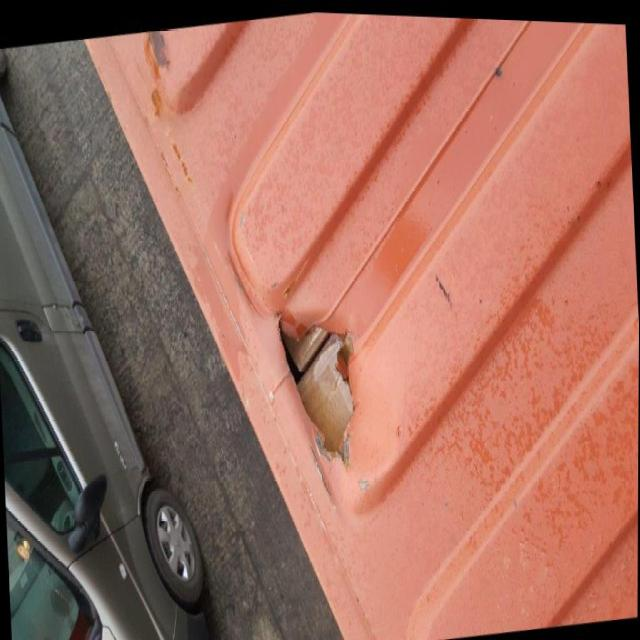hole: (277, 297, 361, 478), (309, 437, 335, 505)
